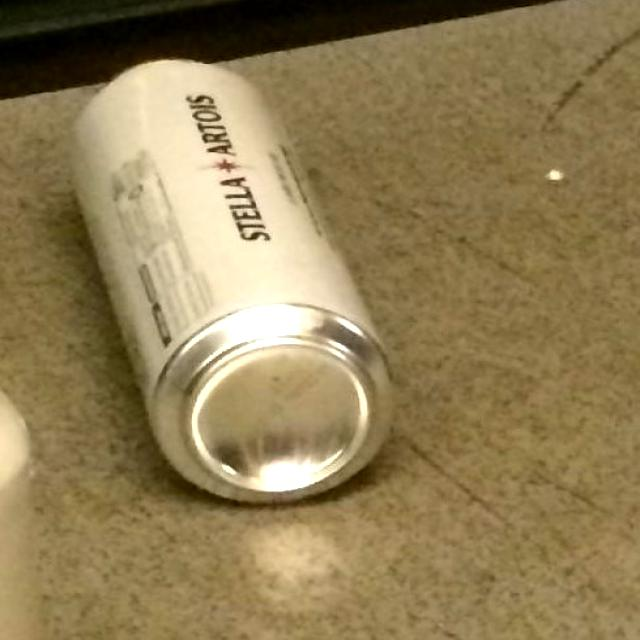Metal: (65, 55, 399, 512)
